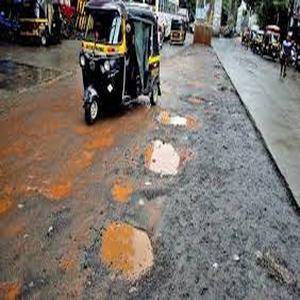pothole: (95, 218, 158, 279), (136, 138, 187, 180)
